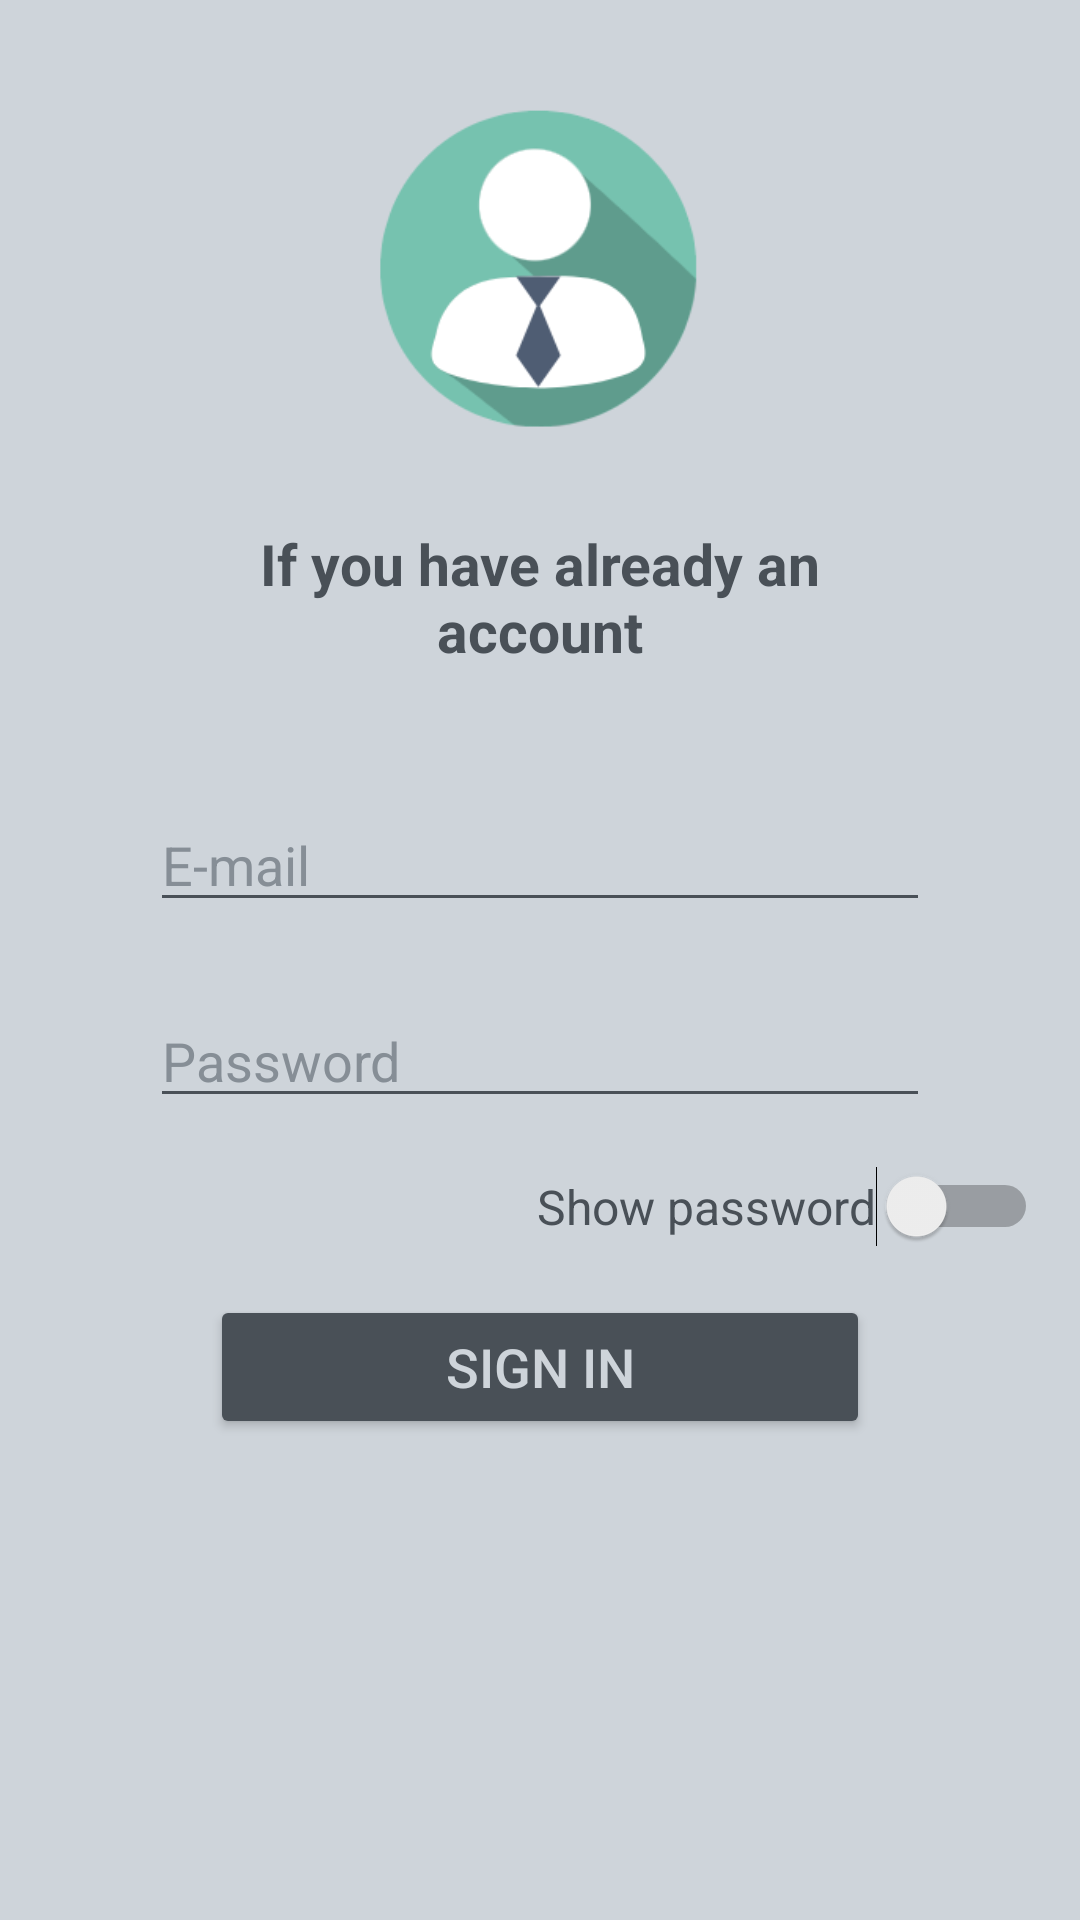

Locate icon controls on the screen. Image size 1080px x 1920px, boxes as region(x1, y1, x2, y2).
This is person icon: region(380, 110, 697, 427)
